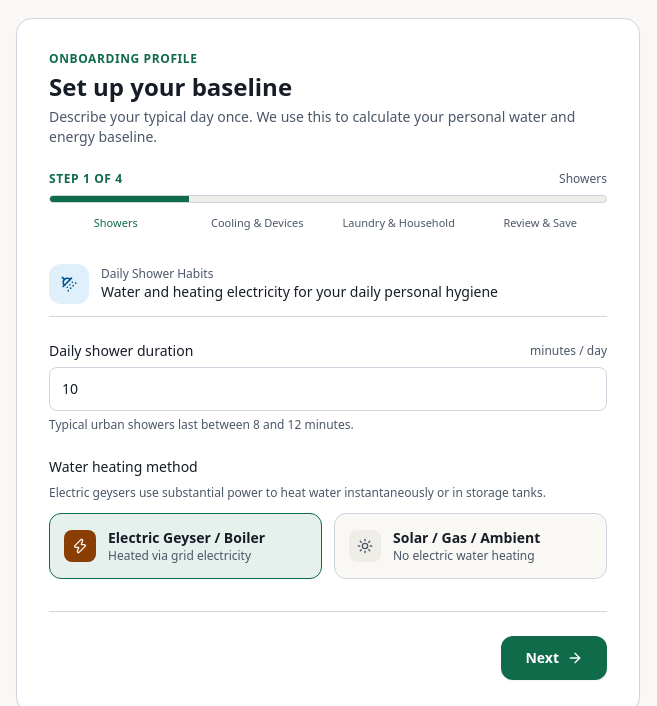
Onboarding Wizard Component › values persist across Back and Next steps
Replace the text in the number field labelled "Daily shower duration" with "25" at point(328, 388), box [49, 366, 607, 410]
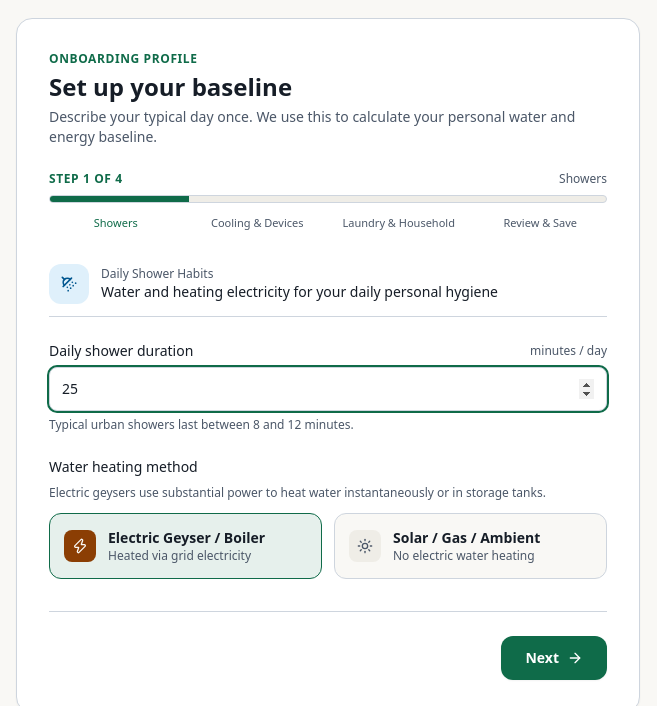
Note: Go to Step 2
Click the button "Next" at point(554, 658), box [502, 636, 607, 680]
(page scrolled)
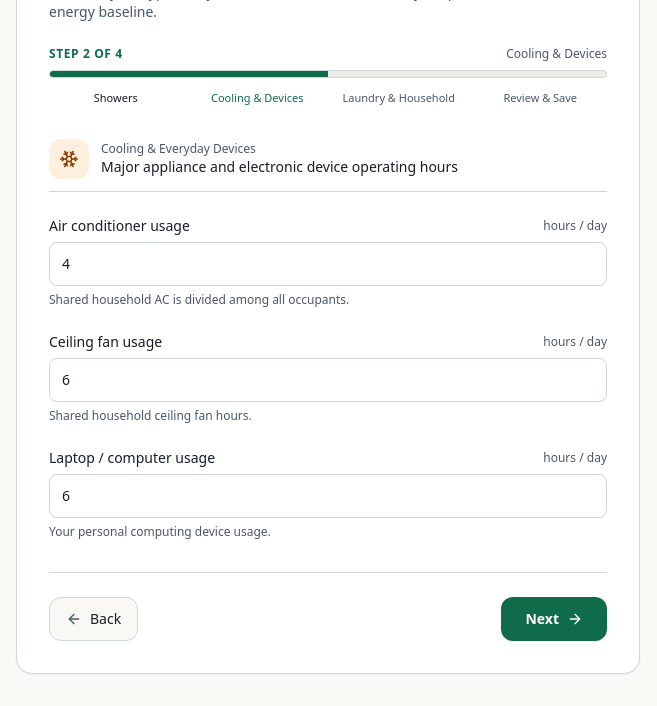
Now the number field labelled "Air conditioner usage" is shown, box [49, 242, 607, 286]
Note: Go Back to Step 1
Click the button "Back" at point(94, 618), box [49, 596, 138, 640]
(page scrolled)
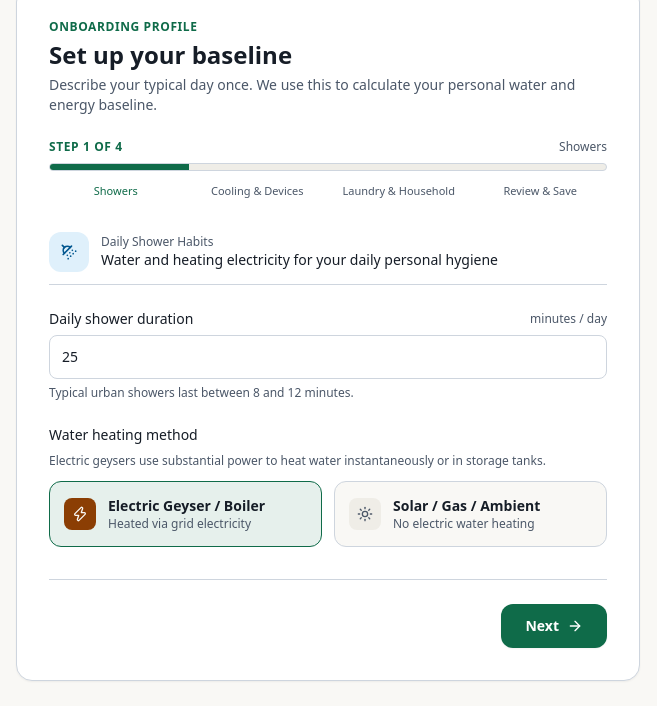
Now the number field labelled "Daily shower duration" holds "25", box [49, 334, 607, 378]
